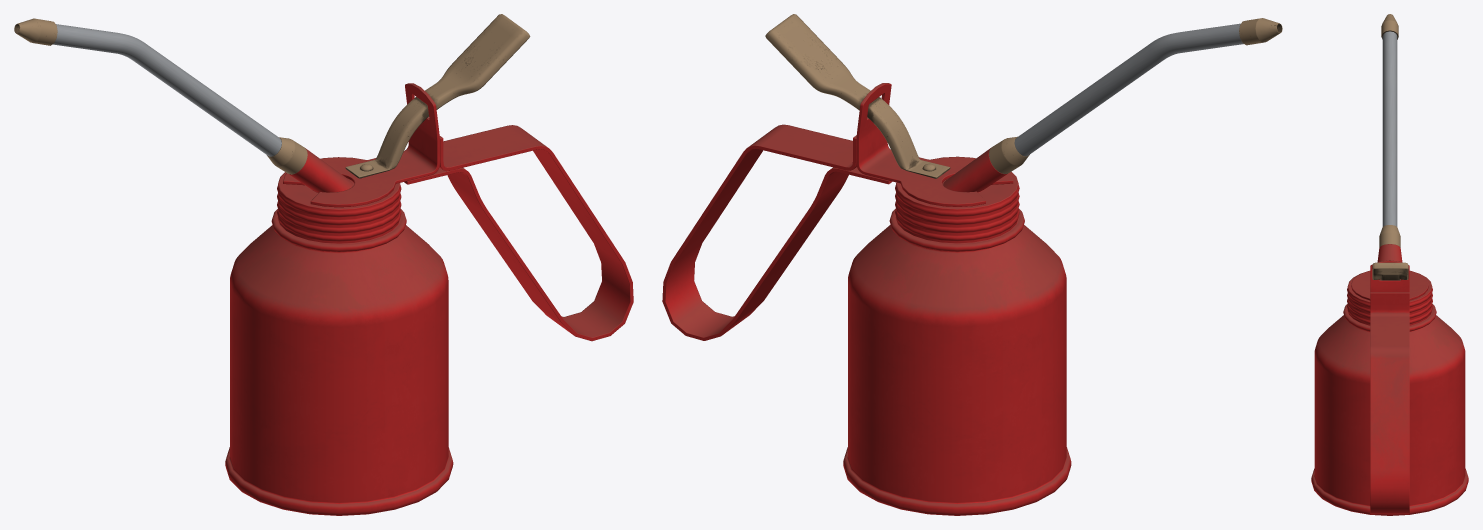
The model's file is Oil_Can.obj.
The picture shows the model from 3 angles, left to right: view 1: azimuth 30°, elevation 25°; view 2: azimuth 150°, elevation 25°; view 3: azimuth 270°, elevation 25°; orthographic projection. The views are drawn at different scales.
Parts seen in each view (by area): view 1: Metal_Can; view 2: Metal_Can; view 3: Metal_Can.
Part boxes in pixels (x1=…): Metal_Can: x1=14, y1=14, x2=633, y2=515; Metal_Can: x1=662, y1=14, x2=1282, y2=515; Metal_Can: x1=1311, y1=14, x2=1468, y2=515.
Bounding box in the file's own units: 22.26 × 18.44 × 7.28.
Materials: 1 (1 with a texture image).
